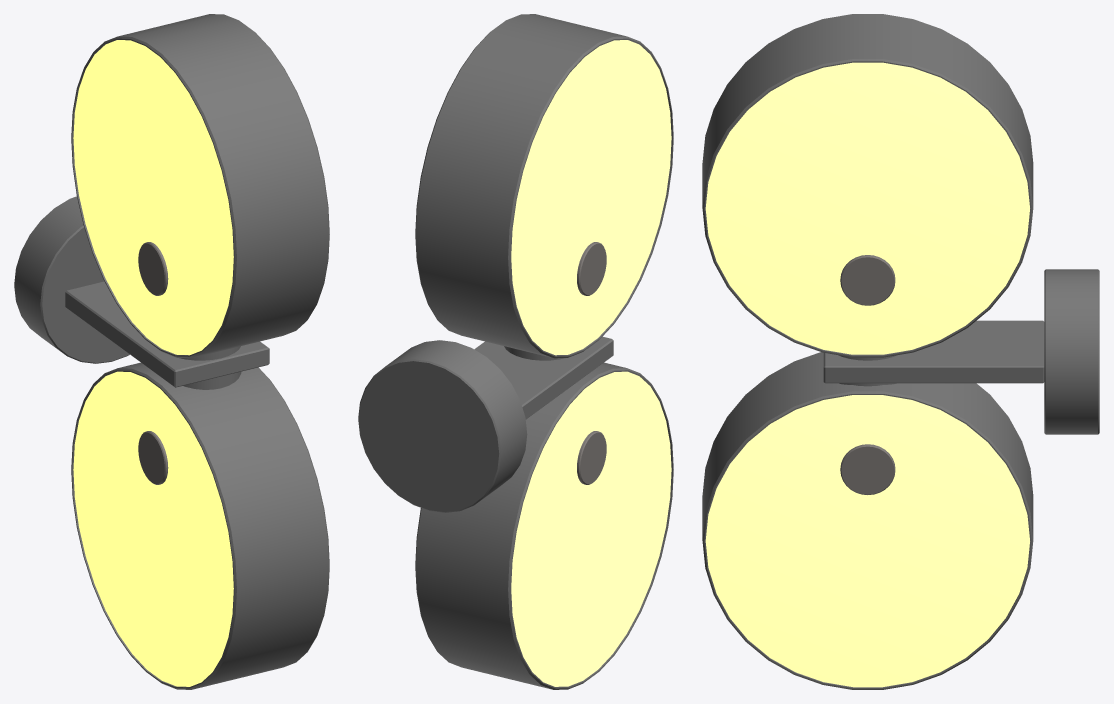
Rendered from A23DMOD_FBX.fbx.
3 renders of one model, left to right at view 1: azimuth 30°, elevation 25°; view 2: azimuth 150°, elevation 25°; view 3: azimuth 270°, elevation 25°, orthographic.
Parts seen in each view (by area): view 1: A23DOBJ_001; view 2: A23DOBJ_001; view 3: A23DOBJ_001.
Boxes of the visible parts, x1=… form: A23DOBJ_001: x1=14, y1=14, x2=329, y2=689; A23DOBJ_001: x1=358, y1=14, x2=673, y2=689; A23DOBJ_001: x1=702, y1=14, x2=1099, y2=689.
Size of the model in its own units: 6 by 25.25 by 14.4.
3 materials, 3 textured.
